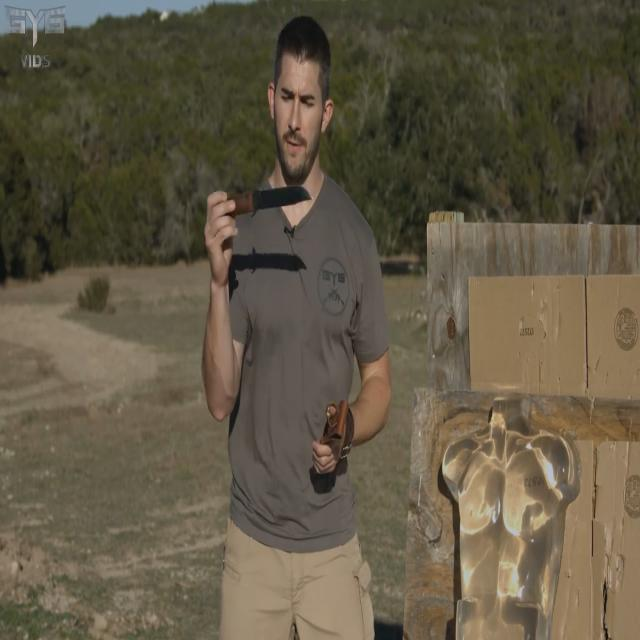knife: (223, 182, 316, 210)
